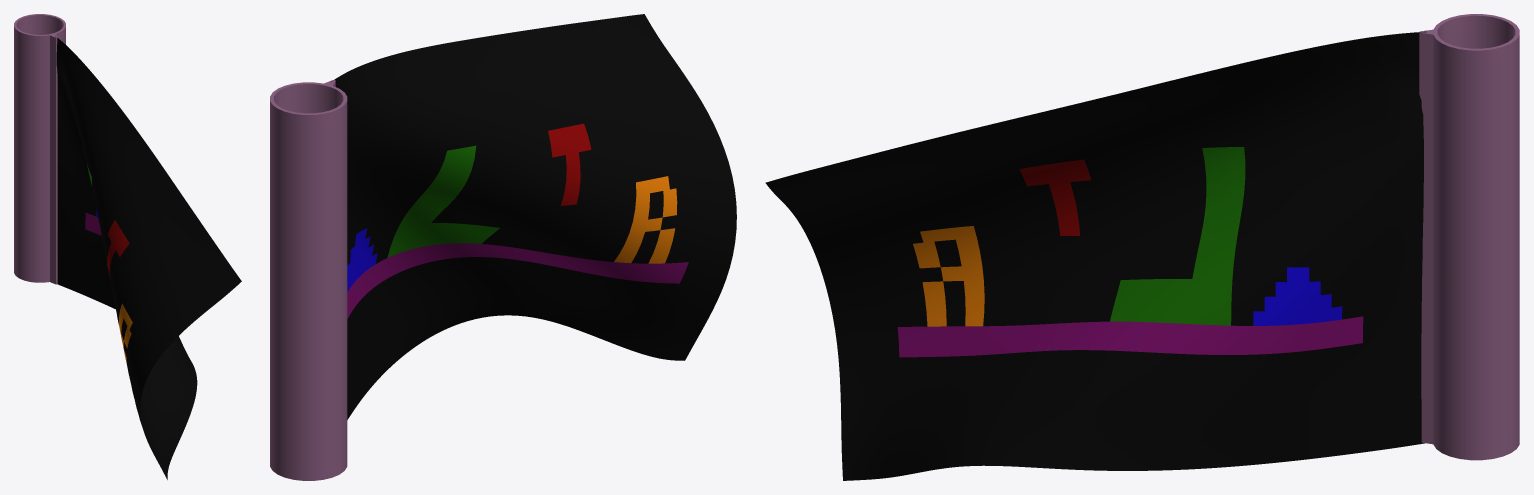
Rendered from Flag.FBX.
3 views of the same model, side by side, from view 1: azimuth 30°, elevation 25°; view 2: azimuth 150°, elevation 25°; view 3: azimuth 270°, elevation 25° (orthographic). The views are drawn at different scales.
Parts seen in each view (by area): view 1: Plane001, Flag Wrap; view 2: Plane001, Flag Wrap; view 3: Plane001, Flag Wrap.
Boxes of the visible parts, x1,y1,x2,y2 form: Plane001: (55,36,241,479); Flag Wrap: (14,14,65,284); Plane001: (331,14,736,419); Flag Wrap: (270,80,347,480); Plane001: (765,31,1426,480); Flag Wrap: (1419,14,1519,460).
Size of the model in its own units: 10.99 by 34.9 by 25.54.
